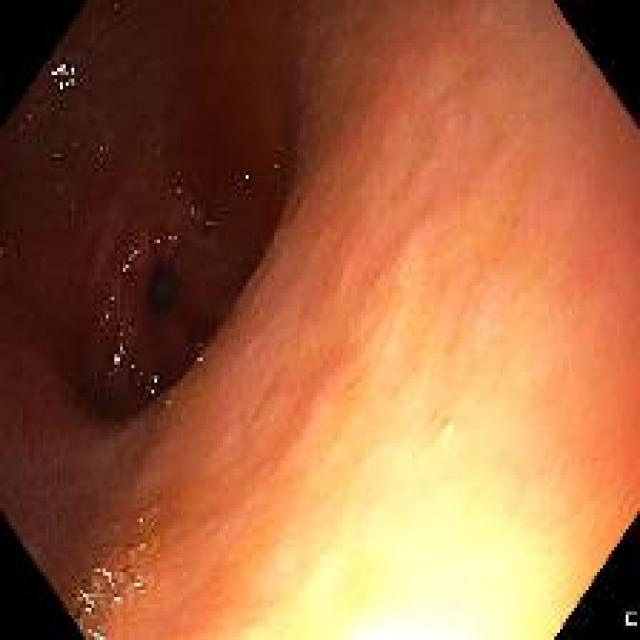bubbles: (74, 555, 153, 638), (199, 217, 213, 243), (128, 324, 145, 343), (123, 564, 138, 582), (145, 369, 154, 392), (176, 184, 189, 197), (134, 370, 141, 392), (216, 229, 225, 245)
contrast: (0, 1, 310, 450), (144, 264, 183, 315)
saturation: (241, 392, 612, 638)
specularity: (49, 60, 78, 96), (109, 327, 127, 377), (119, 245, 138, 275), (238, 167, 254, 187), (91, 565, 111, 580), (77, 588, 91, 604), (166, 230, 179, 246), (151, 374, 159, 399), (83, 601, 97, 615), (88, 628, 103, 638), (153, 232, 162, 248), (112, 593, 124, 604), (188, 205, 198, 218), (132, 578, 142, 591), (102, 309, 110, 321), (109, 295, 115, 303)
